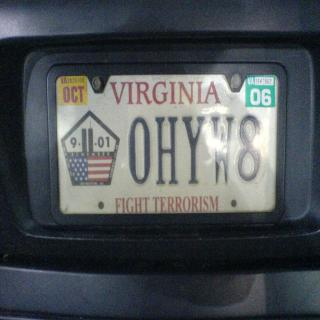license: (57, 76, 279, 214)
